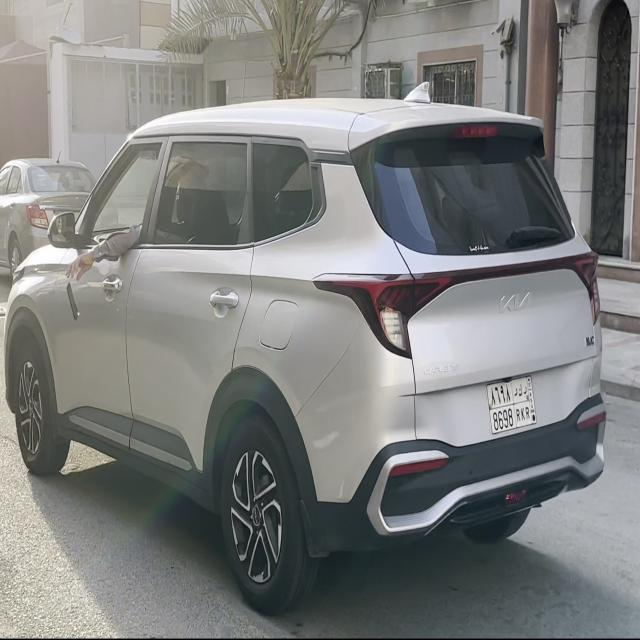Car-plate: (477, 368, 545, 437)
